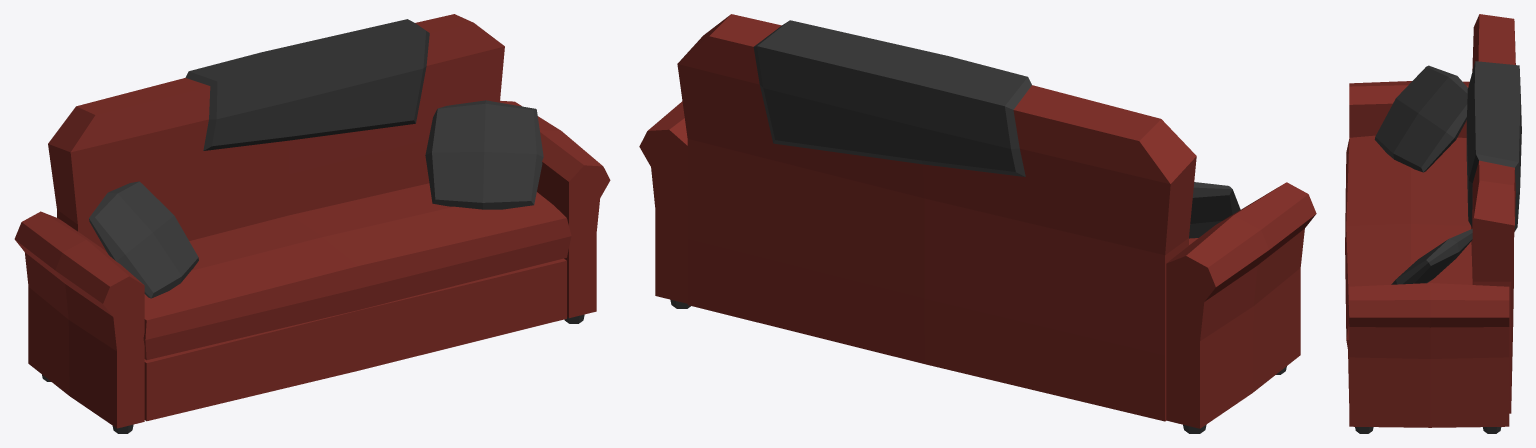
File: WideSofa.glb
3 views of the same model, side by side, from view 1: azimuth 30°, elevation 25°; view 2: azimuth 150°, elevation 25°; view 3: azimuth 270°, elevation 25° (orthographic). The views are drawn at different scales.
Visible parts, largest first — view 1: WideSofa; view 2: WideSofa; view 3: WideSofa.
Boxes of the visible parts, bbox=[...] form: WideSofa: bbox=[14, 14, 610, 433]; WideSofa: bbox=[639, 14, 1316, 433]; WideSofa: bbox=[1345, 14, 1521, 433].
Bounding box in the file's own units: 2.18 × 1.08 × 0.7202.
